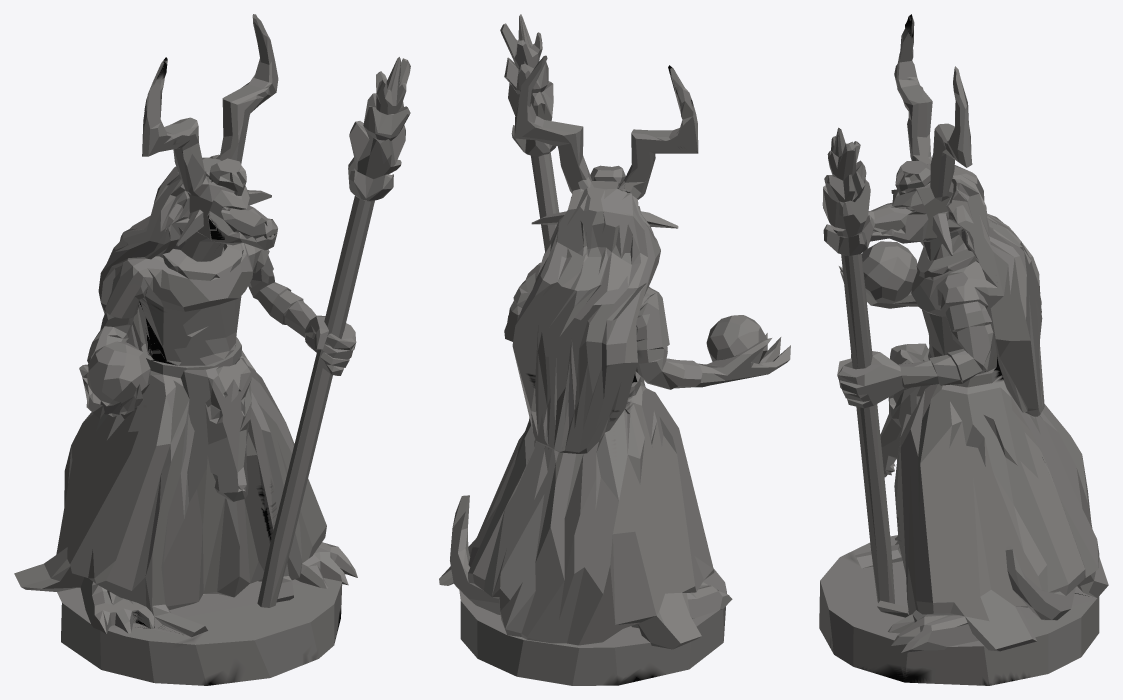
Rendered from kobold_wizard.fbx.
3 renders of one model, left to right at view 1: azimuth 30°, elevation 25°; view 2: azimuth 150°, elevation 25°; view 3: azimuth 270°, elevation 25°, orthographic. The views are drawn at different scales.
Parts seen in each view (by area): view 1: Kobold Chief; view 2: Kobold Chief; view 3: Kobold Chief.
Boxes of the visible parts, box(x1,y1,x2,y2) form: Kobold Chief: box(14, 14, 410, 685); Kobold Chief: box(439, 14, 790, 685); Kobold Chief: box(819, 14, 1108, 685).
Bounding box in the file's own units: 2069 × 3789 × 1695.
1 material, 1 textured.
